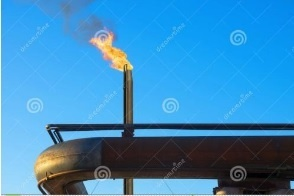fire: (89, 29, 134, 70)
